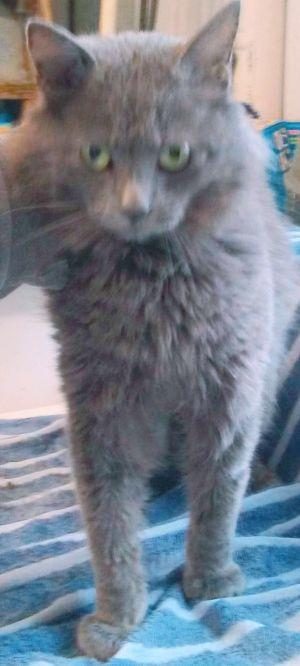rblue: (6, 1, 272, 293)
